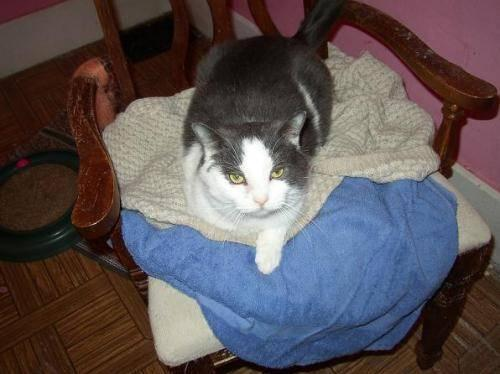cat: (181, 0, 343, 273)
